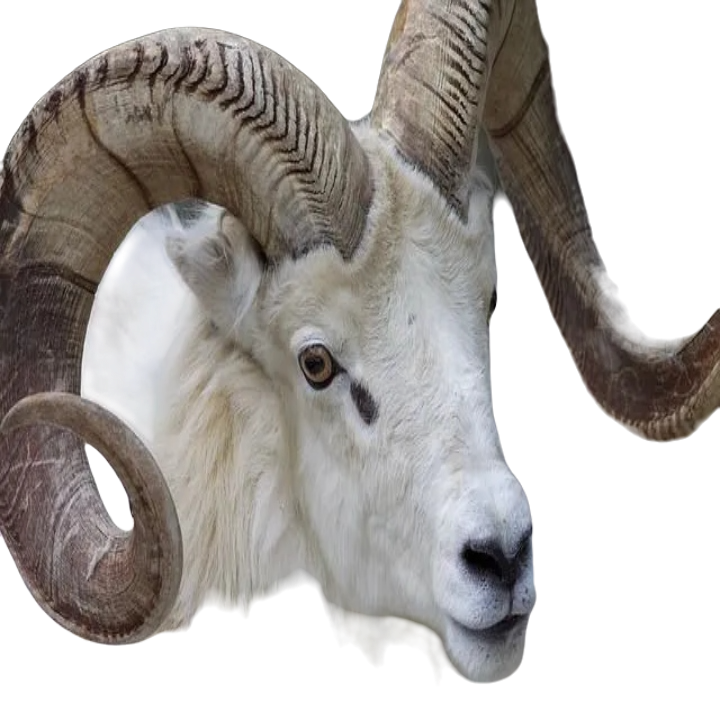Goat: (1, 0, 719, 690)
